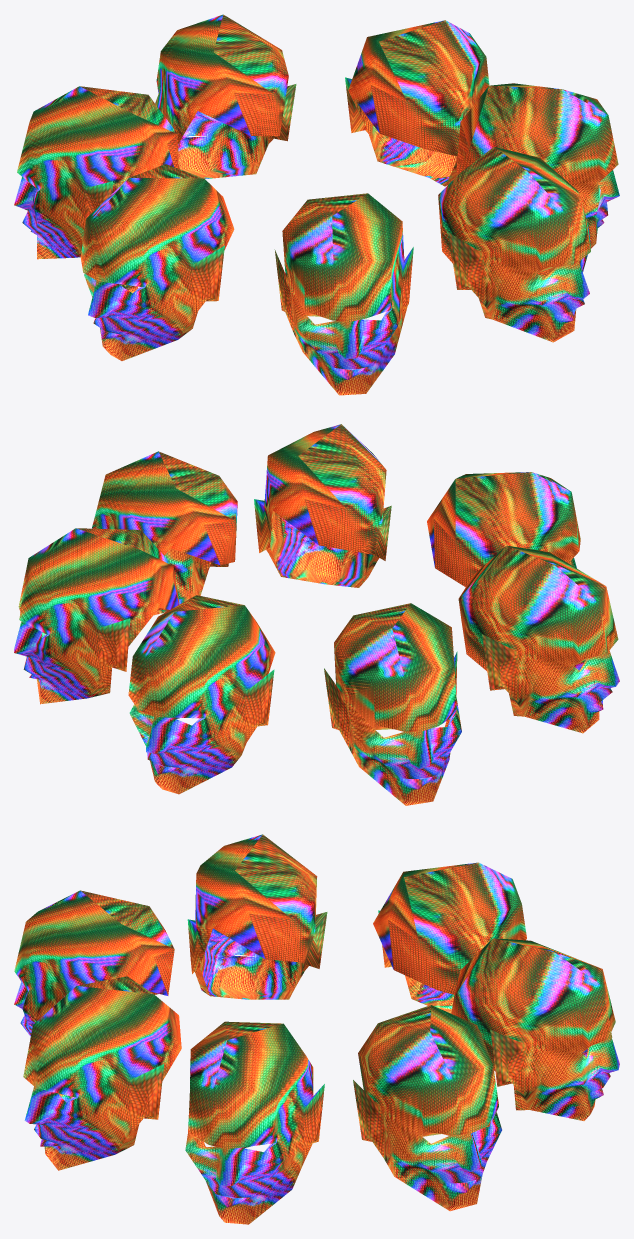
Rendered from Dancer7.glb.
The picture shows the model from 3 angles, top to bottom: view 1: azimuth 30°, elevation 25°; view 2: azimuth 150°, elevation 25°; view 3: azimuth 270°, elevation 25°; orthographic projection. The views are drawn at different scales.
Visible parts, largest first — view 1: CC_Base_Body.003; view 2: CC_Base_Body.003; view 3: CC_Base_Body.003.
Boxes of the visible parts, <box> form: CC_Base_Body.003: <box>14,14,619,395</box>; CC_Base_Body.003: <box>14,424,619,805</box>; CC_Base_Body.003: <box>14,834,619,1224</box>.
Bounding box in the file's own units: 3.1 × 0.9447 × 3.05.
Materials: 1 (1 with a texture image).
